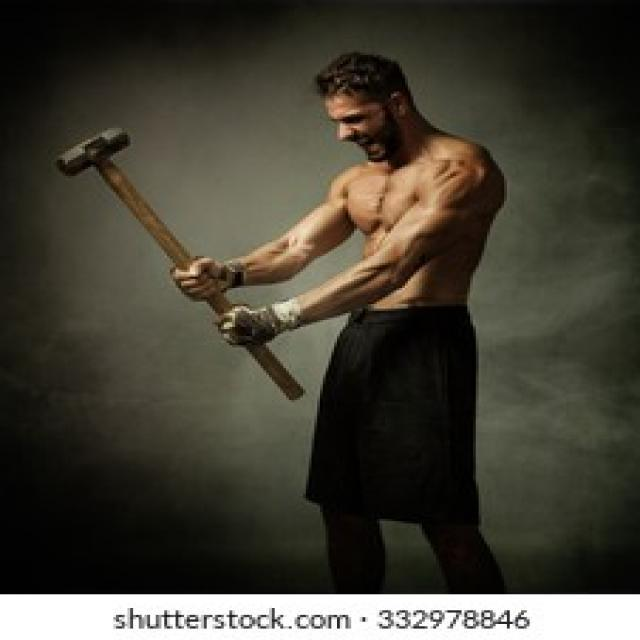hammer: (40, 118, 312, 404)
